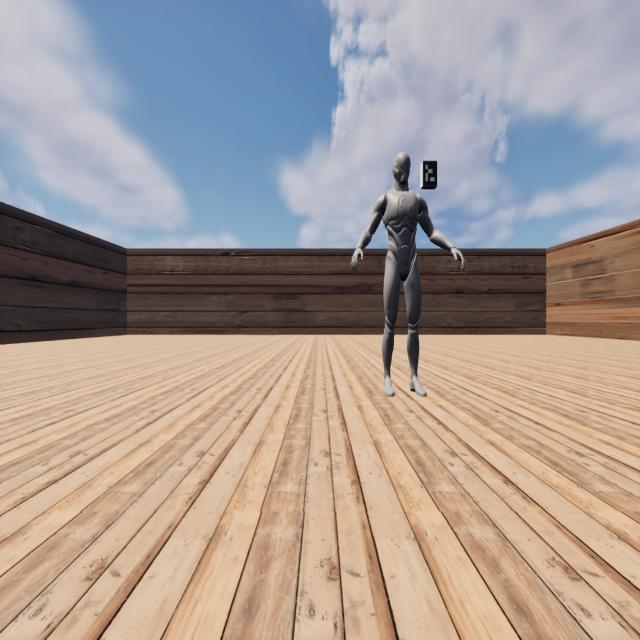aruco: (423, 161, 437, 186)
hip: (385, 253, 418, 267)
